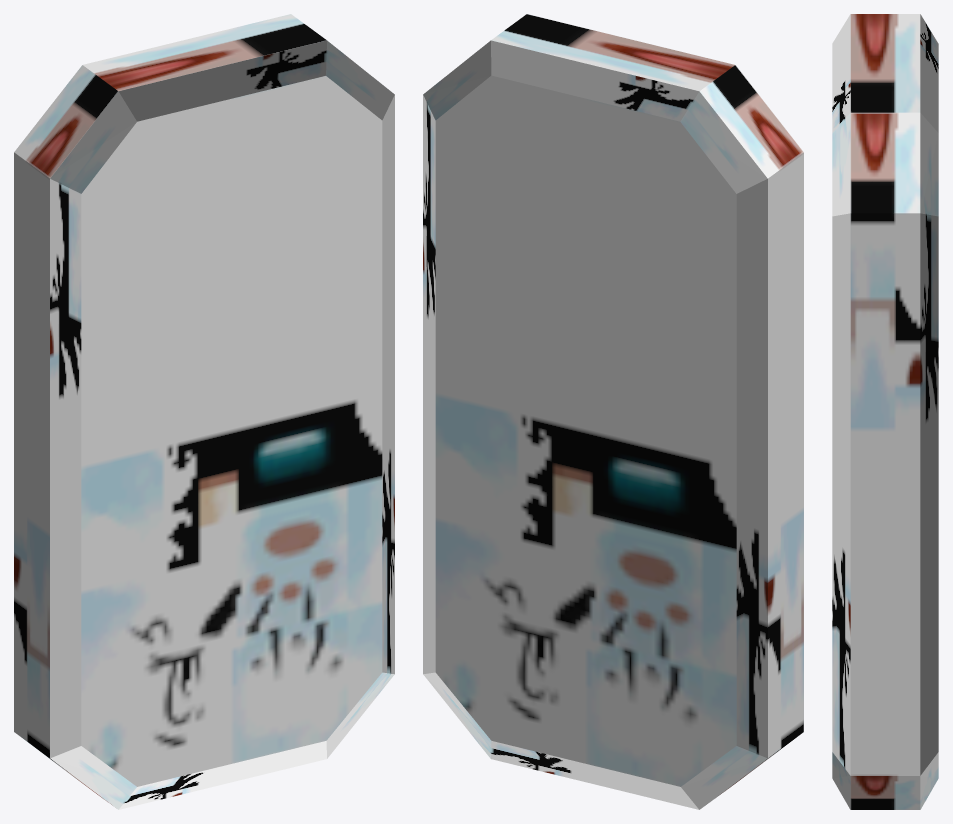
File: static.ico.obj
3 views of the same model, side by side, from view 1: azimuth 30°, elevation 25°; view 2: azimuth 150°, elevation 25°; view 3: azimuth 270°, elevation 25° (orthographic). The views are drawn at different scales.
Bounding box in the file's own units: 2.3 × 4.59 × 0.6338.
